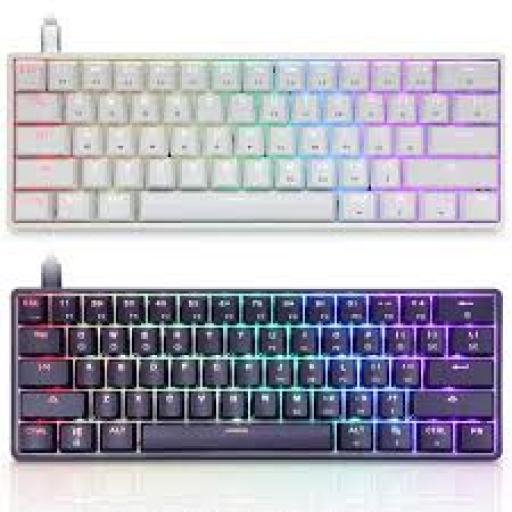keyboard: (7, 55, 503, 228), (11, 289, 501, 457)
